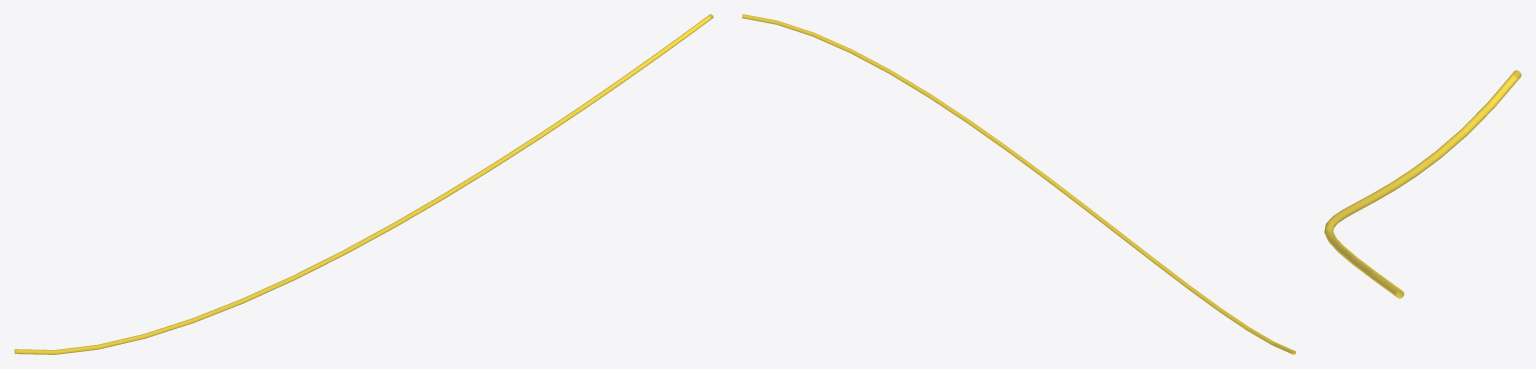
File: Event_17758602_track_61.fbx
3 renders of one model, left to right at view 1: azimuth 30°, elevation 25°; view 2: azimuth 150°, elevation 25°; view 3: azimuth 270°, elevation 25°, orthographic. The views are drawn at different scales.
Parts seen in each view (by area): view 1: Model; view 2: Model; view 3: Model.
Part boxes in pixels (x1,y1,x2,y2): Model: (14, 14, 713, 354); Model: (742, 14, 1295, 354); Model: (1324, 70, 1521, 298).
Size of the model in its own units: 6.12 by 1.81 by 0.8973.
